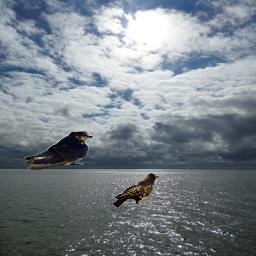Crow: (113, 172, 161, 209)
Swallow: (24, 131, 94, 170)
